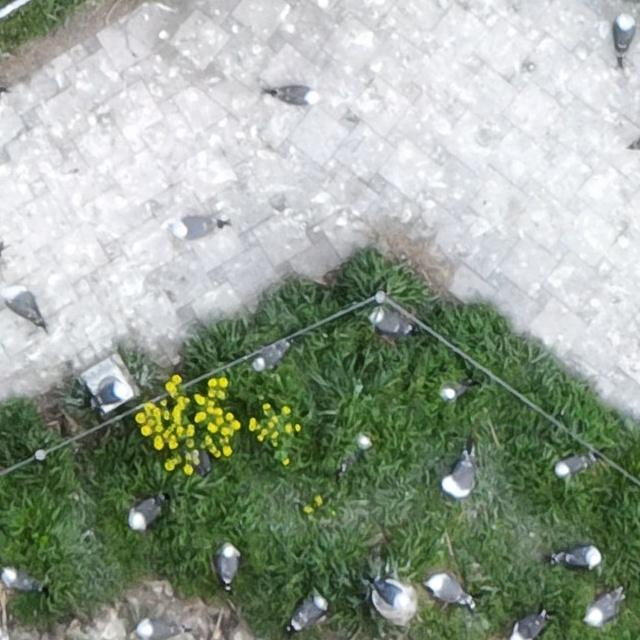umineko: (0, 280, 46, 330), (368, 306, 417, 338), (374, 577, 416, 609), (293, 595, 324, 627), (586, 592, 618, 623), (429, 575, 466, 601), (448, 458, 474, 494), (615, 12, 636, 54), (128, 499, 158, 528), (561, 545, 600, 566), (514, 611, 546, 636), (276, 85, 317, 104), (218, 547, 238, 583), (139, 620, 178, 638), (255, 344, 284, 368), (3, 570, 34, 591), (557, 456, 588, 476), (178, 218, 213, 235), (442, 381, 467, 399)
